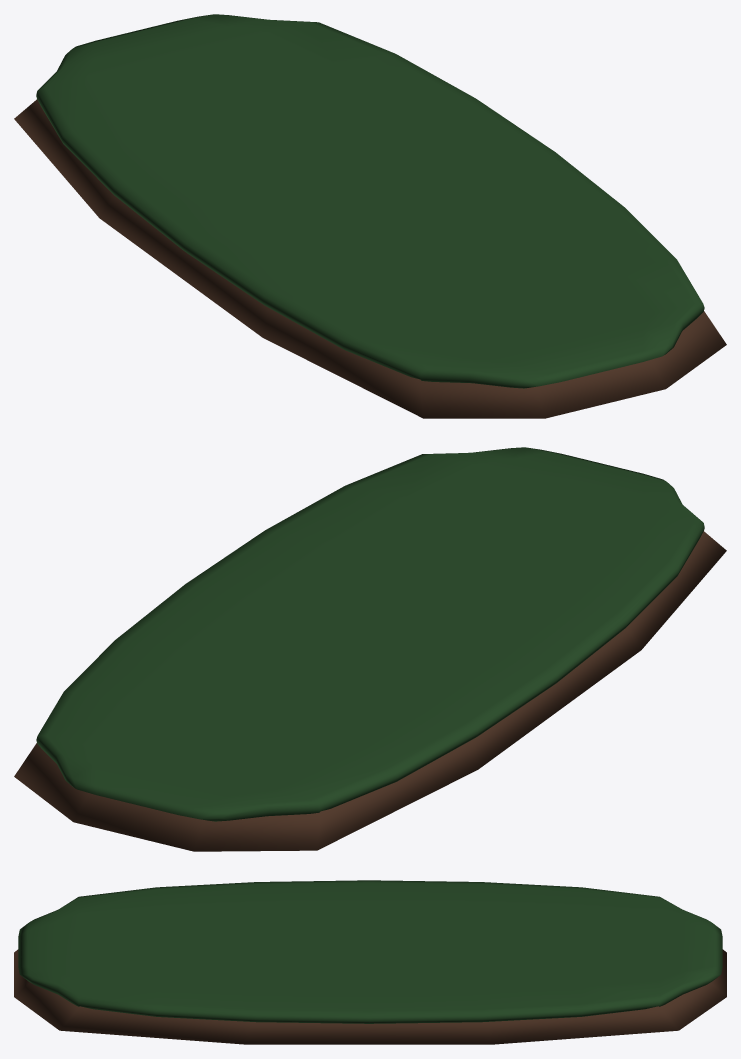
The model's file is enviroment3.fbx.
3 views of the same model, one above another, from view 1: azimuth 30°, elevation 25°; view 2: azimuth 150°, elevation 25°; view 3: azimuth 270°, elevation 25° (orthographic). The views are drawn at different scales.
Visible parts, largest first — view 1: env_piece3; view 2: env_piece3; view 3: env_piece3.
Boxes of the visible parts, <box> form: env_piece3: <box>14,14,726,418</box>; env_piece3: <box>14,447,726,851</box>; env_piece3: <box>14,880,726,1044</box>.
Size of the model in its own units: 588 by 54.59 by 1268.
